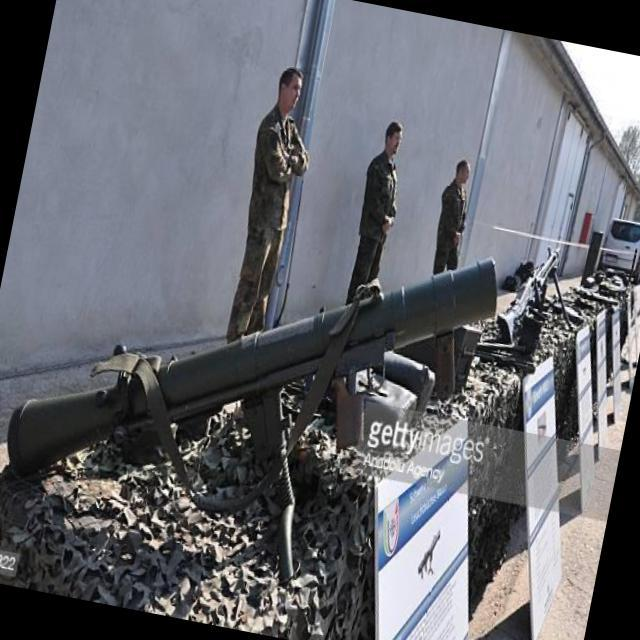rocket: (2, 170, 500, 562)
